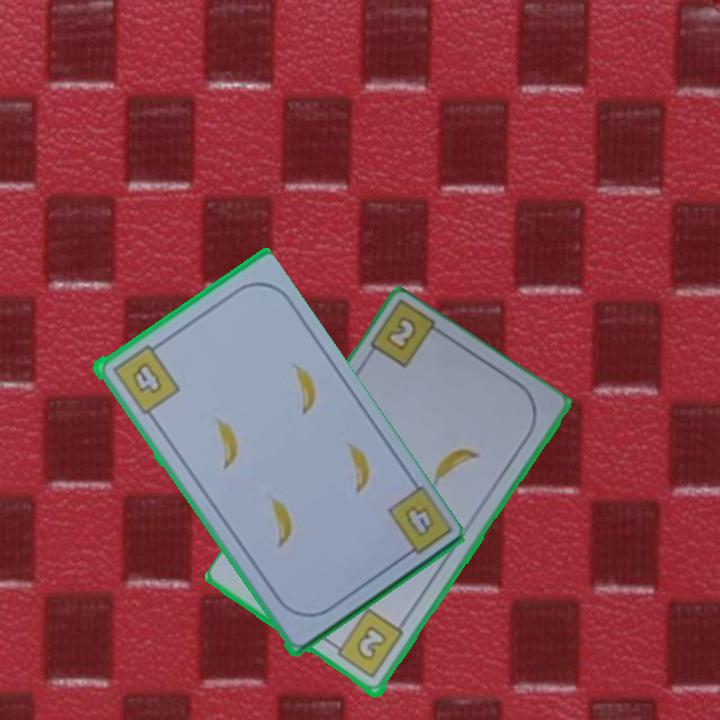2b: (327, 606, 407, 682), (385, 316, 417, 351)
4b: (108, 338, 183, 417), (382, 483, 453, 564)
